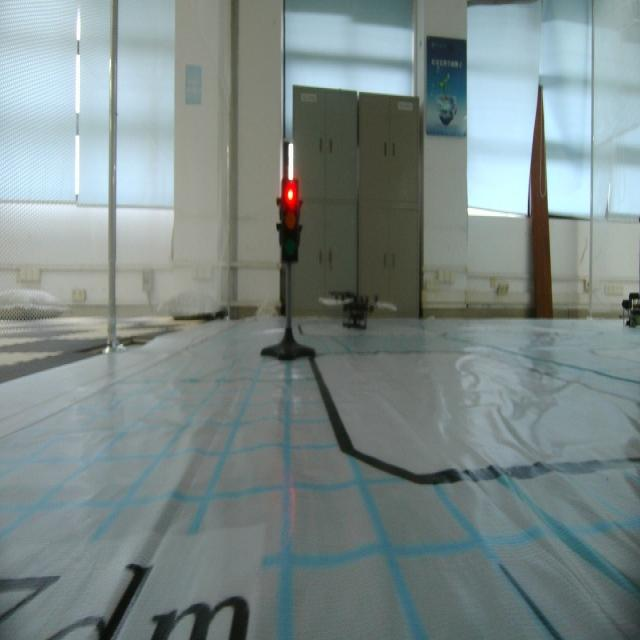red: (277, 180, 303, 265)
